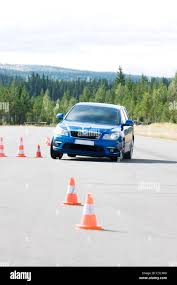car: (50, 103, 135, 161)
cone: (76, 193, 102, 229), (63, 177, 80, 206), (15, 135, 28, 159), (1, 132, 8, 157), (34, 146, 44, 160)
